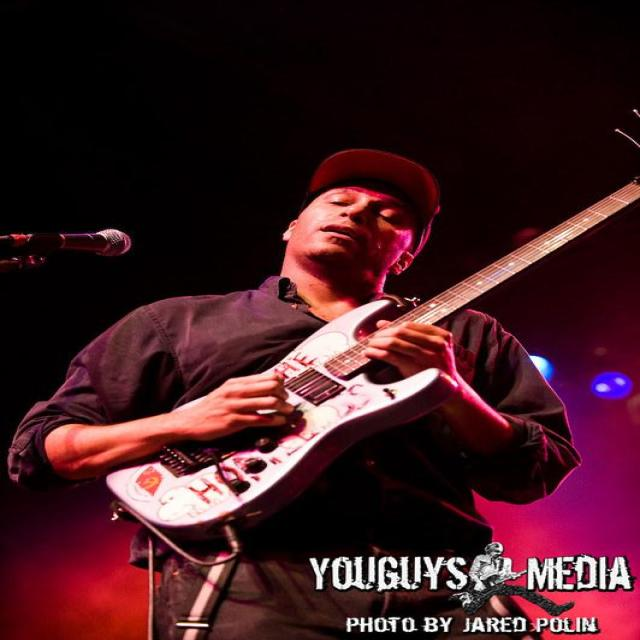guitar: (108, 300, 454, 539)
